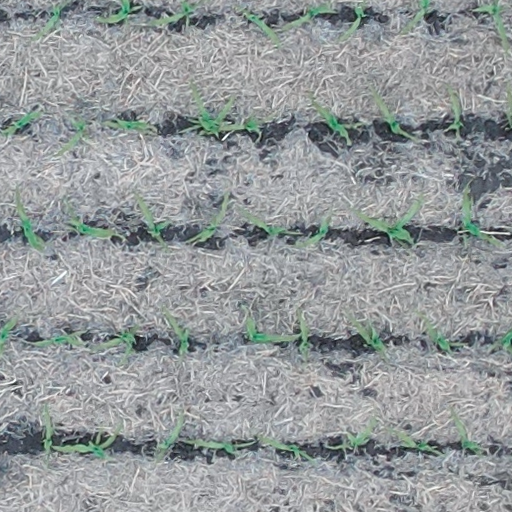planta: (357, 195, 421, 243), (312, 96, 362, 147), (460, 187, 502, 245), (50, 425, 120, 459), (190, 84, 235, 135), (373, 90, 418, 139), (186, 192, 229, 243), (232, 3, 280, 45), (135, 193, 172, 247), (66, 202, 120, 239), (91, 323, 139, 362), (13, 193, 45, 251), (241, 207, 301, 237), (325, 416, 376, 451), (259, 433, 318, 463), (424, 314, 466, 353), (244, 314, 300, 343), (388, 427, 445, 455), (349, 314, 387, 355), (283, 1, 334, 30), (451, 409, 484, 453), (292, 211, 331, 247), (154, 413, 184, 458), (163, 307, 190, 355), (216, 110, 277, 131), (186, 437, 252, 455), (57, 115, 87, 153), (33, 329, 87, 348), (444, 85, 463, 132), (103, 117, 151, 132), (298, 311, 310, 359), (42, 405, 53, 455)
